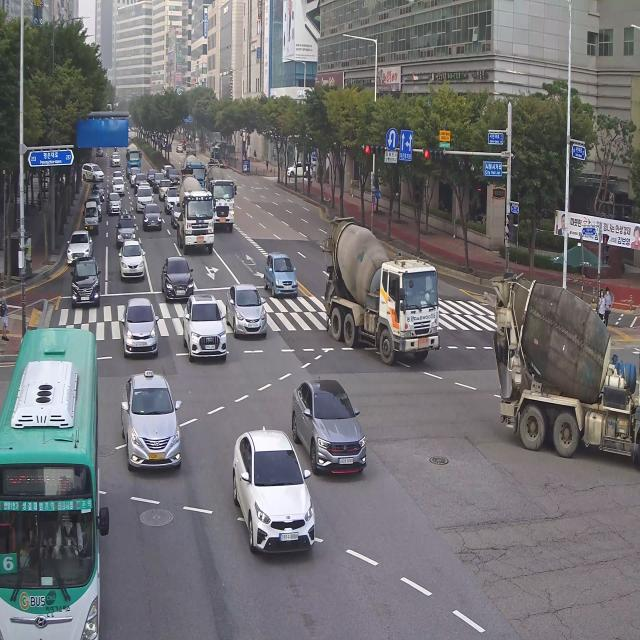Bus: (0, 308, 108, 640)
Car: (217, 410, 321, 564), (290, 369, 372, 485), (118, 357, 186, 488), (223, 266, 270, 354), (179, 283, 229, 362), (262, 231, 304, 314), (69, 254, 115, 325), (121, 292, 165, 356), (160, 245, 203, 310), (116, 237, 151, 286), (140, 190, 167, 245), (83, 156, 109, 192)
Truck: (487, 272, 640, 502), (312, 212, 447, 370), (176, 175, 217, 261)
